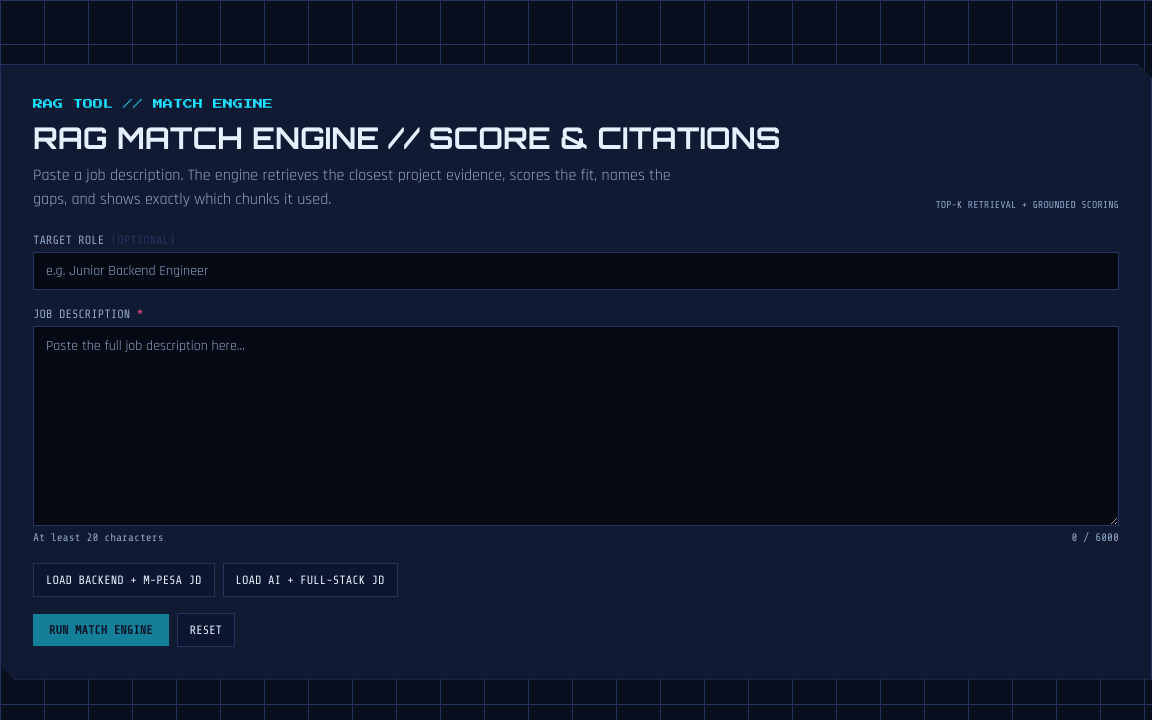
Match.vue › presets › loads the backend preset
Click the button "LOAD BACKEND + M-PESA JD" at [124, 580], box [33,562,214,596]
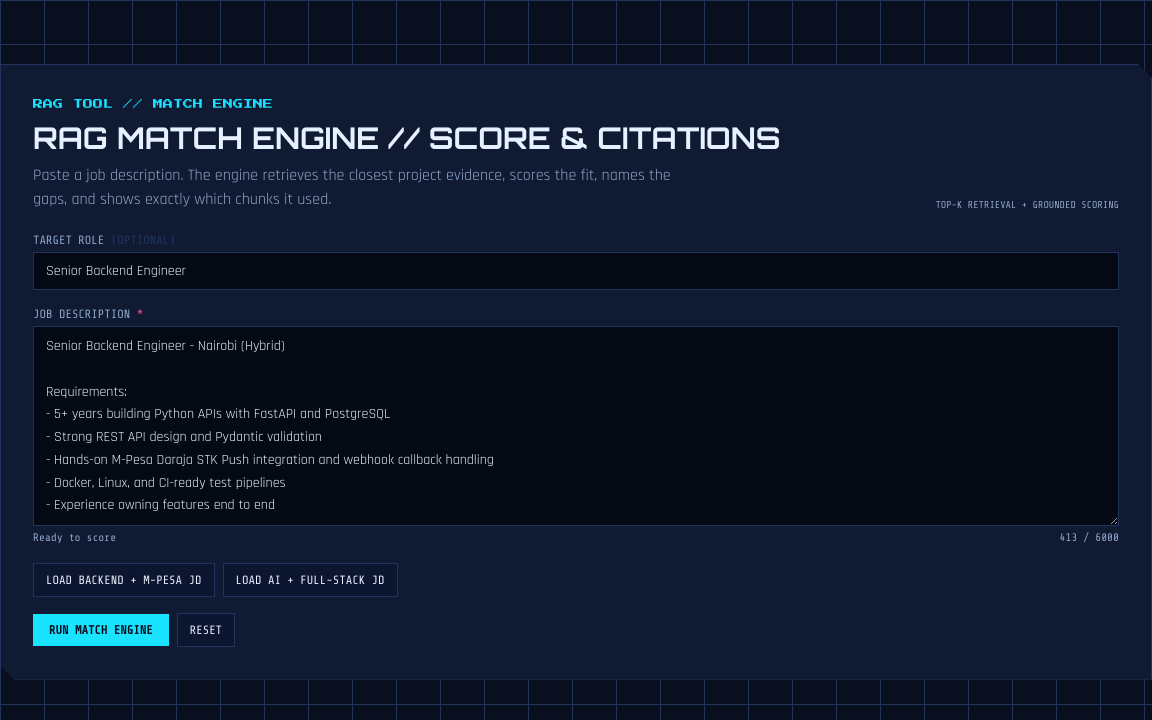
Now the field labelled "TARGET ROLE (OPTIONAL)" holds "Senior Backend Engineer", box [33,252,1119,290]
